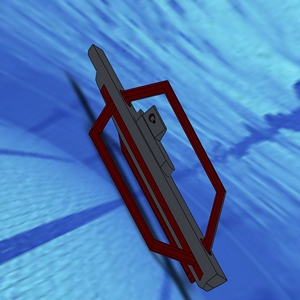submarine: (62, 24, 268, 293)
